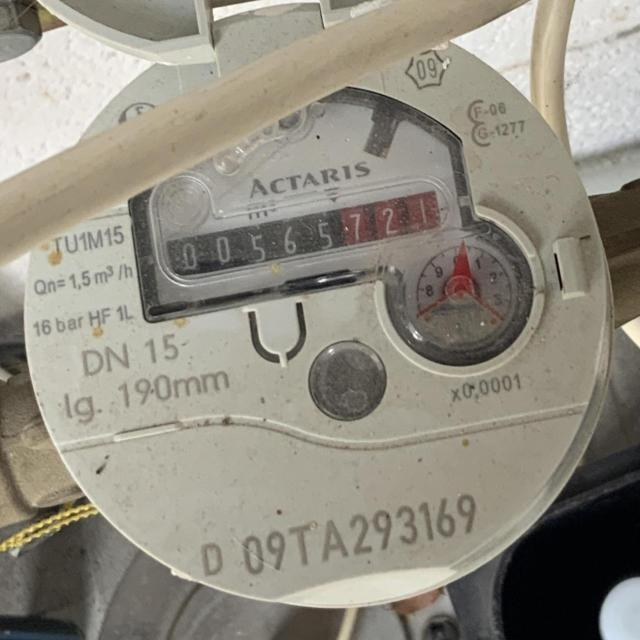gaz_meter: (23, 21, 609, 608)
indication: (170, 187, 446, 279)
